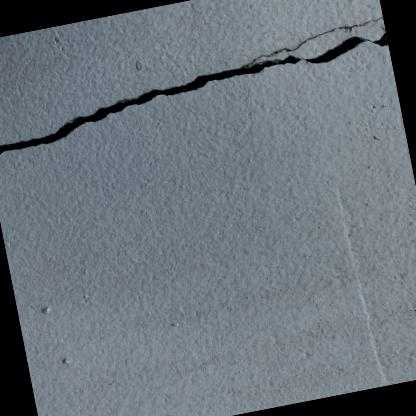crack: (0, 16, 388, 155)
